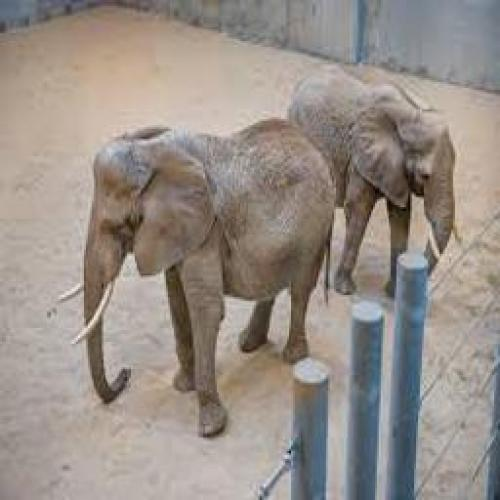african_elephant-endangered: (55, 117, 340, 442), (283, 70, 463, 308)
